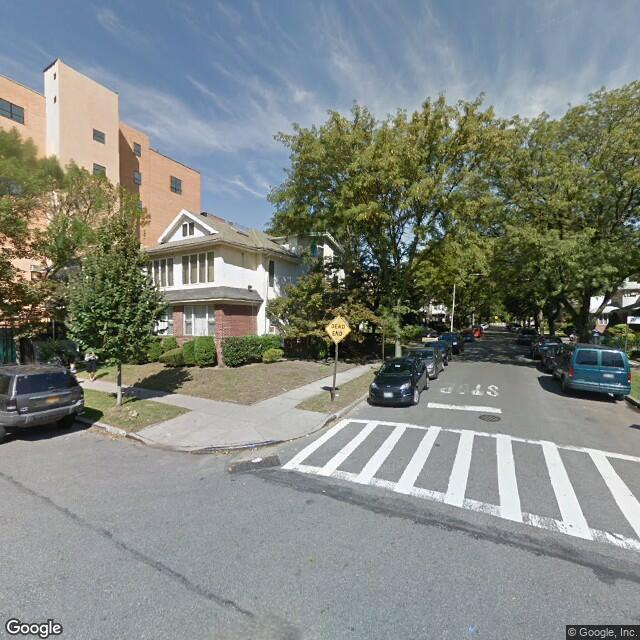litter: (249, 456, 263, 463), (333, 390, 341, 400)
